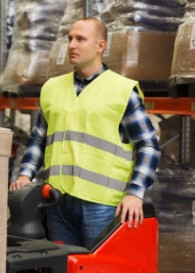worker: (40, 20, 140, 206)
